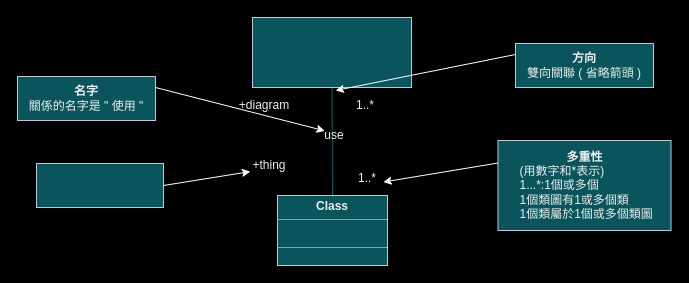
This 689x283 diagram has some shape labels left out. Here are the shapes that lost their labels. From the top down, the centre of each, then its label:
[332,52]: ClassDiagram
[100,185]: 角色 類的角色是 " 事物 "
